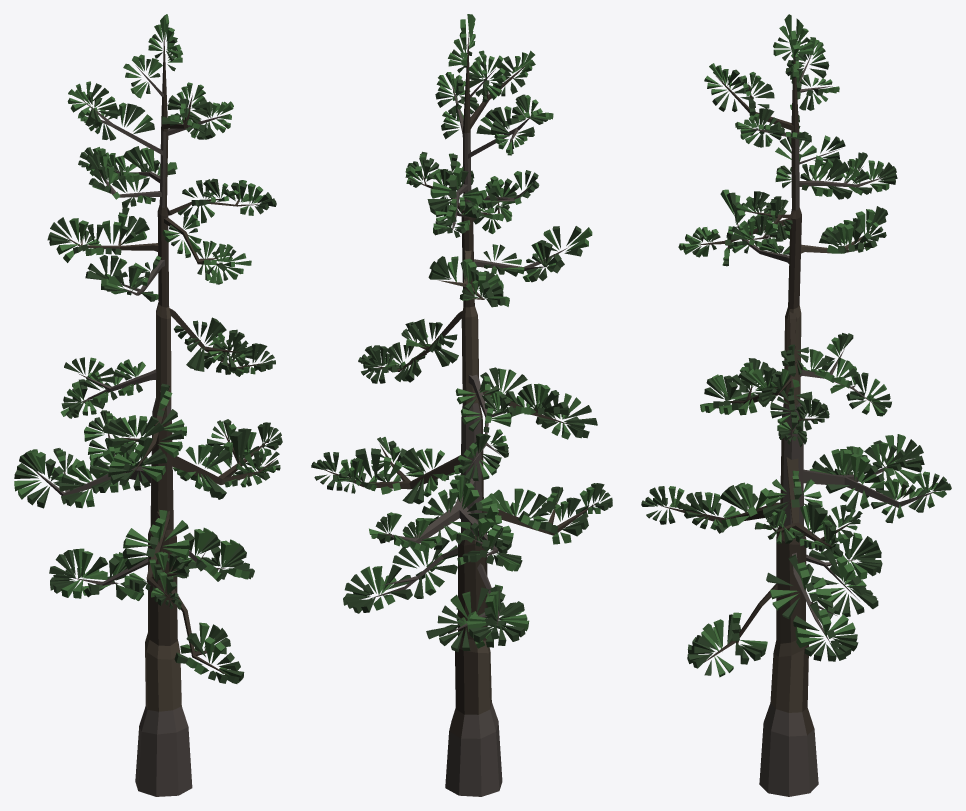
Rendered from Tree3.fbx.
3 renders of one model, left to right at view 1: azimuth 30°, elevation 25°; view 2: azimuth 150°, elevation 25°; view 3: azimuth 270°, elevation 25°, orthographic.
Visible parts, largest first — view 1: Cylinder.013; view 2: Cylinder.013; view 3: Cylinder.013.
Boxes of the visible parts, bbox=[...] form: Cylinder.013: bbox=[14, 14, 282, 796]; Cylinder.013: bbox=[311, 14, 612, 796]; Cylinder.013: bbox=[641, 14, 951, 796].
Size of the model in its own units: 889 by 2773 by 1012.
